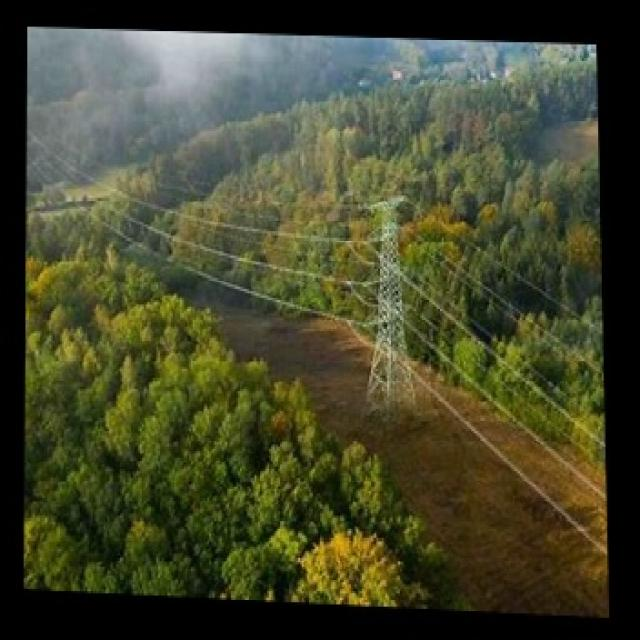utility poles: (362, 165, 428, 430)
